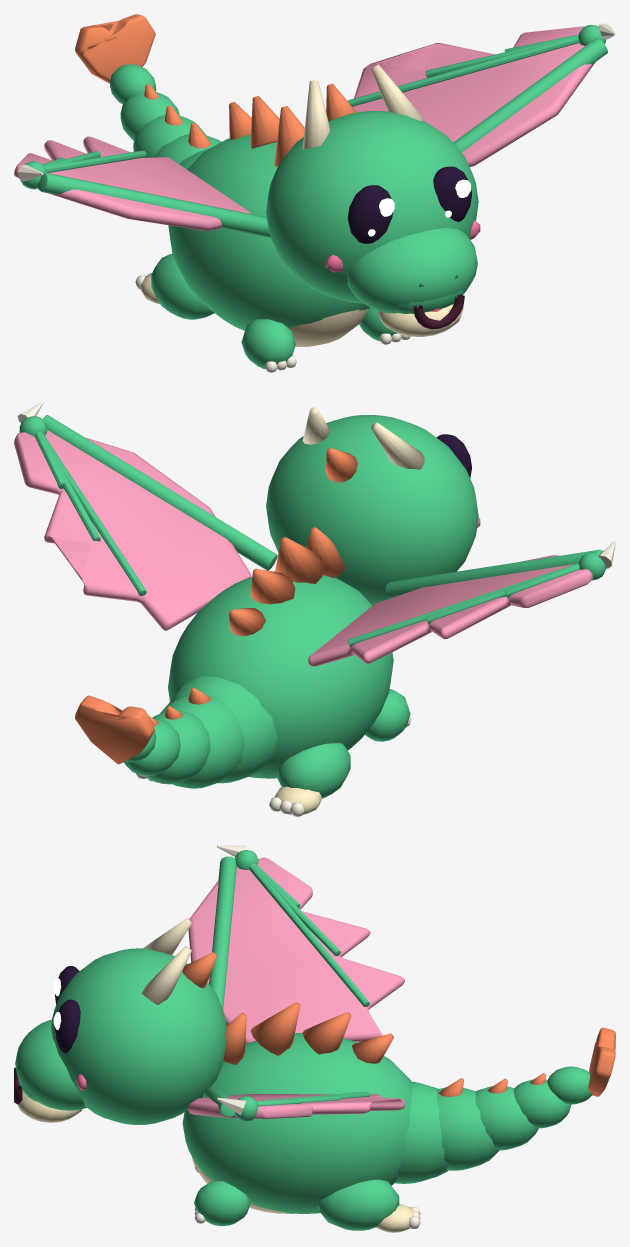
The model's file is dragon.glb.
3 views of the same model, one above another, from view 1: azimuth 30°, elevation 25°; view 2: azimuth 150°, elevation 25°; view 3: azimuth 270°, elevation 25° (orthographic). The views are drawn at different scales.
Visible parts, largest first — view 1: dragon_skull, dragon_arm_-1, dragon_wing_r_skin, dragon_tail, dragon_wing_l_skin, dragon_wing_r_bone, dragon_wing_l_bone, dragon, dragon_horn_-1, dragon_foot_-1, dragon_eye_l, dragon_eye_r (+4 smaller); view 2: dragon_arm_-1, dragon_skull, dragon_wing_r_skin, dragon_tail, dragon_wing_l_skin, dragon_wing_r_bone, dragon_wing_l_bone, dragon, dragon_horn_-1, dragon_head_spike, dragon_foot_-1, dragon_eye_l; view 3: dragon_arm_-1, dragon_skull, dragon_wing_l_skin, dragon_tail, dragon_wing_l_bone, dragon, dragon_wing_r_skin, dragon_horn_-1, dragon_wing_r_bone, dragon_eye_r, dragon_foot_-1, dragon_chin (+1 smaller).
Part boxes in pixels (box(x1,y1,x2,y2)): dragon_skull: box(266, 111, 478, 313); dragon_arm_-1: box(151, 134, 397, 368); dragon_wing_r_skin: box(353, 26, 595, 166); dragon_tail: box(75, 14, 221, 169); dragon_wing_l_skin: box(14, 136, 250, 230); dragon_wing_r_bone: box(348, 24, 607, 152); dragon_wing_l_bone: box(20, 150, 270, 237); dragon: box(229, 96, 304, 166); dragon_horn_-1: box(302, 64, 424, 149); dragon_foot_-1: box(140, 274, 368, 346); dragon_eye_l: box(347, 185, 392, 243); dragon_eye_r: box(433, 166, 471, 221); dragon_arm_-1: box(168, 571, 410, 798); dragon_skull: box(266, 415, 478, 605); dragon_wing_r_skin: box(14, 430, 251, 630); dragon_tail: box(75, 676, 277, 788); dragon_wing_l_skin: box(308, 555, 592, 666); dragon_wing_r_bone: box(19, 415, 277, 596); dragon_wing_l_bone: box(347, 549, 606, 647); dragon: box(229, 527, 345, 636); dragon_horn_-1: box(302, 407, 424, 469); dragon_head_spike: box(325, 448, 357, 482); dragon_foot_-1: box(146, 778, 322, 814); dragon_eye_l: box(436, 434, 471, 477); dragon_arm_-1: box(182, 1033, 412, 1230); dragon_skull: box(15, 948, 226, 1124); dragon_wing_l_skin: box(188, 857, 404, 1043); dragon_tail: box(395, 1027, 615, 1183); dragon_wing_l_bone: box(209, 850, 369, 1009); dragon: box(223, 1002, 393, 1064); dragon_wing_r_skin: box(187, 1094, 404, 1118); dragon_horn_-1: box(141, 918, 191, 1004); dragon_wing_r_bone: box(203, 1087, 369, 1121); dragon_eye_r: box(55, 999, 80, 1053); dragon_foot_-1: box(192, 1157, 414, 1232); dragon_chin: box(17, 1090, 81, 1122).
Size of the model in its own units: 3.11 by 1.52 by 3.02.
